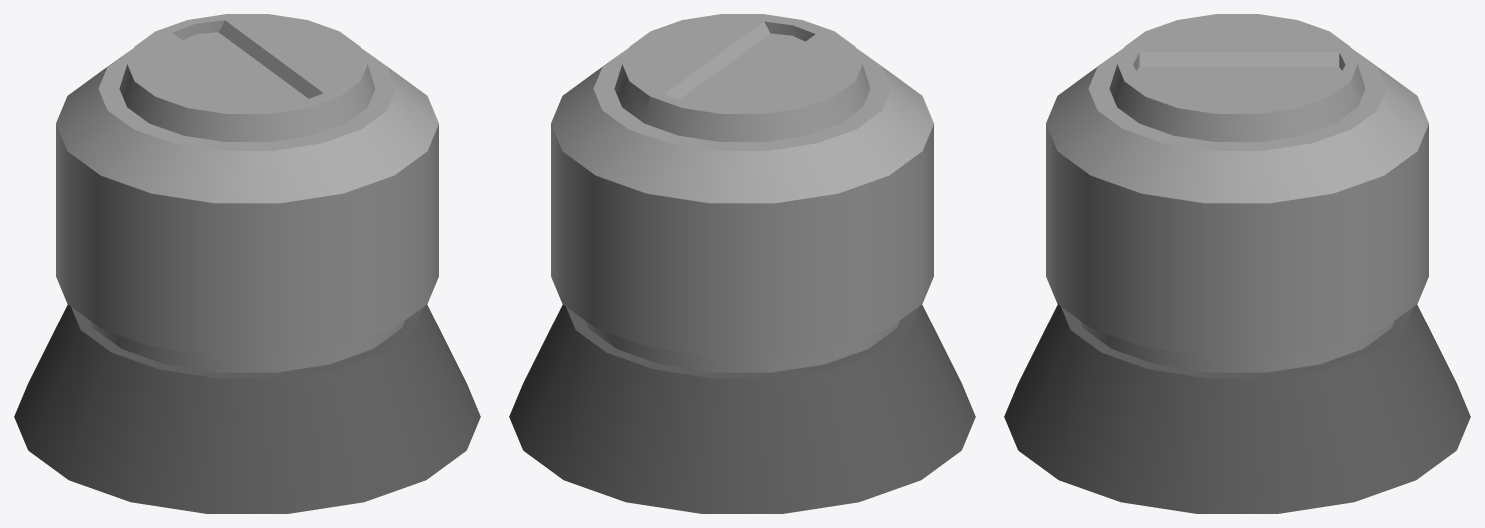
File: Roof Opening.glb
The picture shows the model from 3 angles, left to right: view 1: azimuth 30°, elevation 25°; view 2: azimuth 150°, elevation 25°; view 3: azimuth 270°, elevation 25°; orthographic projection.
Parts seen in each view (by area): view 1: Roof_Opening; view 2: Roof_Opening; view 3: Roof_Opening.
Boxes of the visible parts, x1=… form: Roof_Opening: x1=14, y1=14, x2=480, y2=513; Roof_Opening: x1=509, y1=14, x2=975, y2=513; Roof_Opening: x1=1004, y1=14, x2=1470, y2=513.
Size of the model in its own units: 1.41 by 1.2 by 1.43.
Materials: 1 (1 with a texture image).
